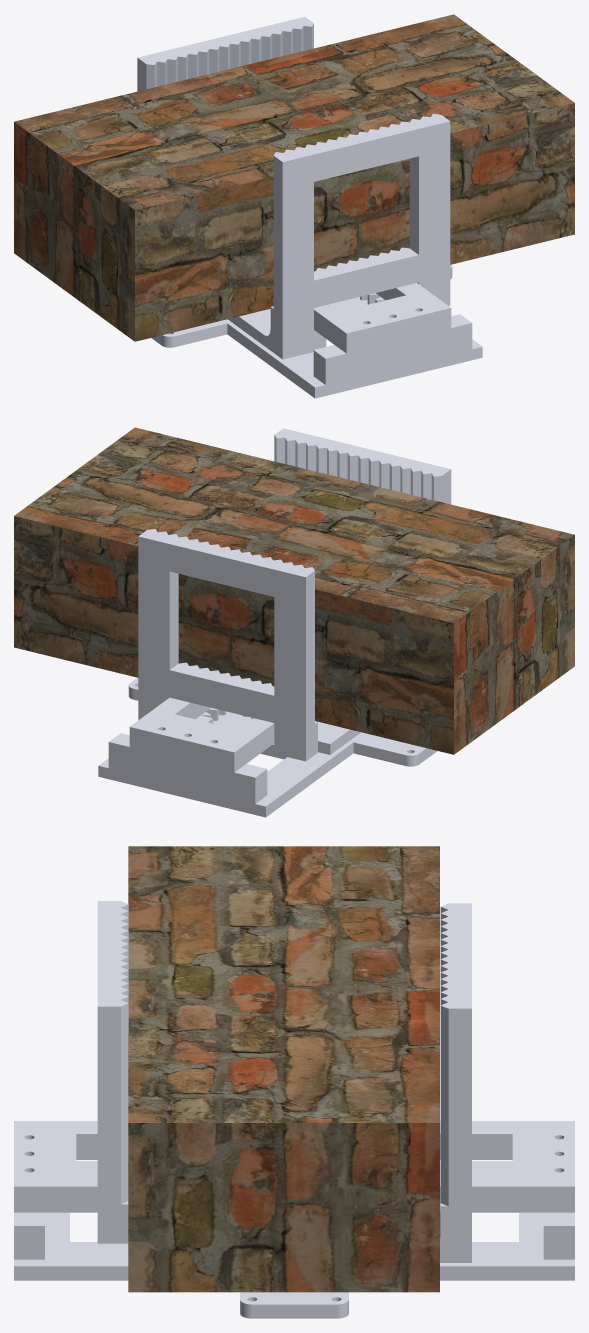
File: end_effector.dae
3 renders of one model, top to bottom at view 1: azimuth 30°, elevation 25°; view 2: azimuth 150°, elevation 25°; view 3: azimuth 270°, elevation 25°, orthographic. The views are drawn at different scales.
Parts seen in each view (by area): view 1: Shape_IndexedFaceSet.002; view 2: Shape_IndexedFaceSet.002; view 3: Shape_IndexedFaceSet.002.
Boxes of the visible parts, x1=… form: Shape_IndexedFaceSet.002: x1=14, y1=14, x2=574, y2=398; Shape_IndexedFaceSet.002: x1=14, y1=427, x2=574, y2=817; Shape_IndexedFaceSet.002: x1=14, y1=846, x2=574, y2=1318.
Bounding box in the file's own units: 0.21 × 0.18 × 0.097.
4 materials, 1 textured.
